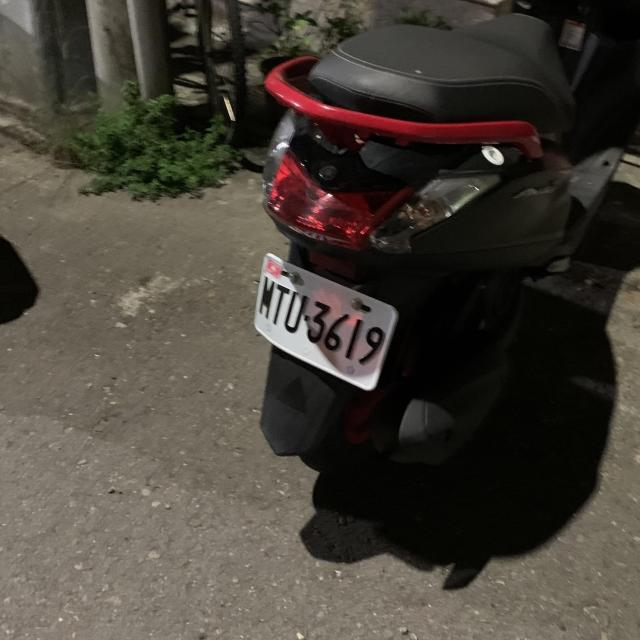W: (238, 244, 409, 397)
